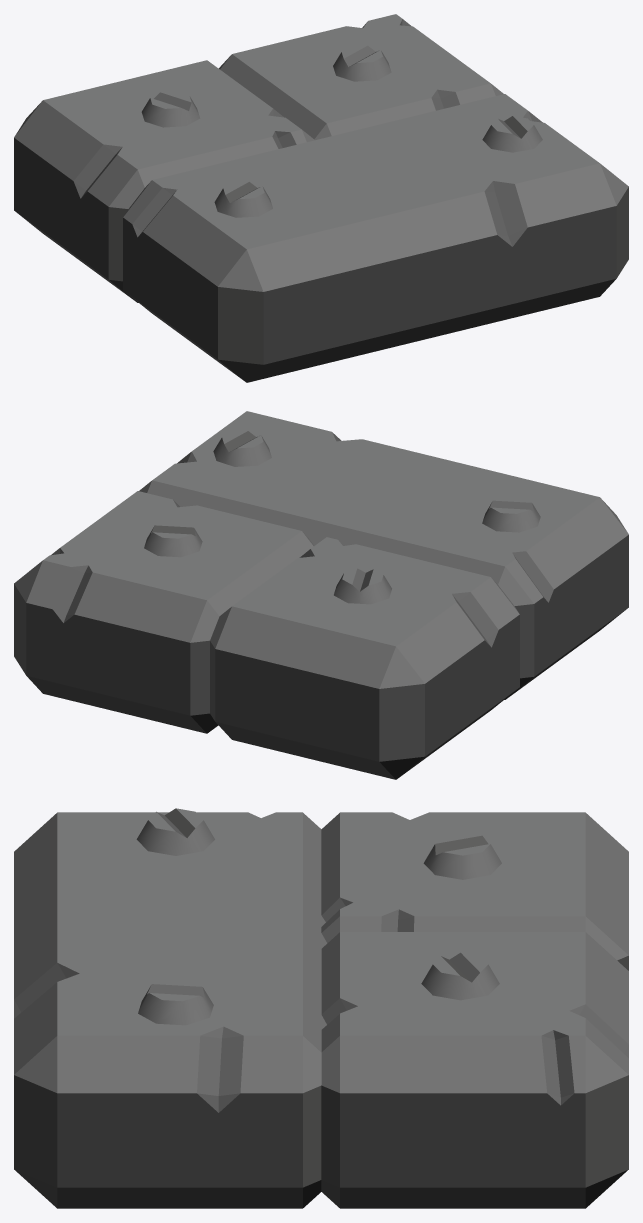
The model's file is m_kub_metalOld_floorMixed.FBX.
3 views of the same model, one above another, from view 1: azimuth 30°, elevation 25°; view 2: azimuth 150°, elevation 25°; view 3: azimuth 270°, elevation 25° (orthographic). The views are drawn at different scales.
Parts seen in each view (by area): view 1: m_kub_metalOld_floorMixed; view 2: m_kub_metalOld_floorMixed; view 3: m_kub_metalOld_floorMixed.
Boxes of the visible parts, x1,y1,x2,y2 form: m_kub_metalOld_floorMixed: (14, 14, 628, 382); m_kub_metalOld_floorMixed: (14, 411, 628, 779); m_kub_metalOld_floorMixed: (14, 808, 628, 1208).
Bounding box in the file's own units: 2.18 × 0.7512 × 2.18.
